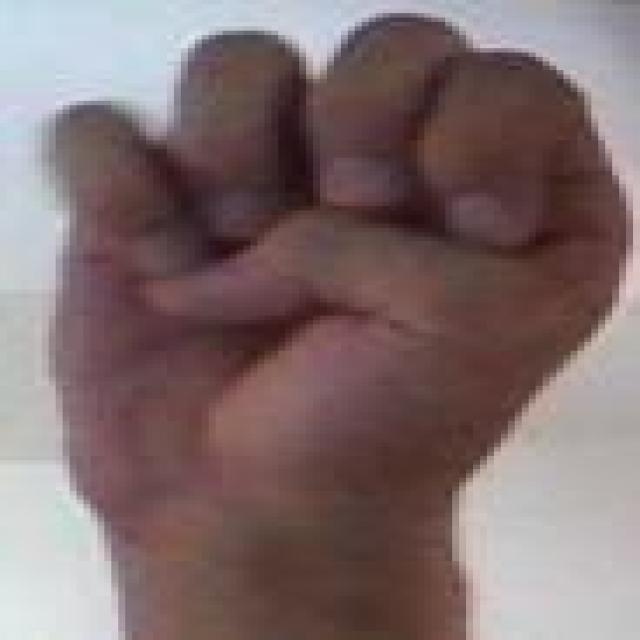E: (11, 12, 629, 530)
